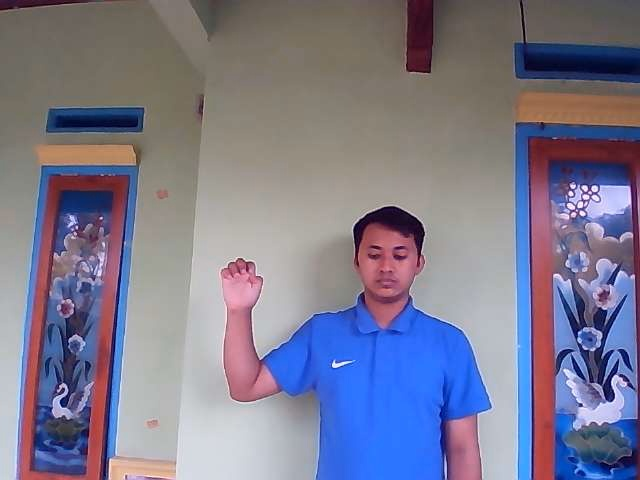E: (219, 257, 265, 313)
